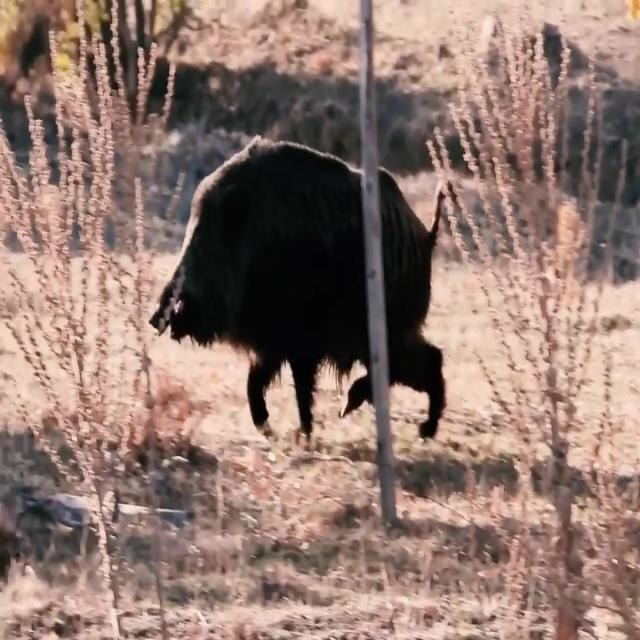pig: (124, 108, 485, 448)
